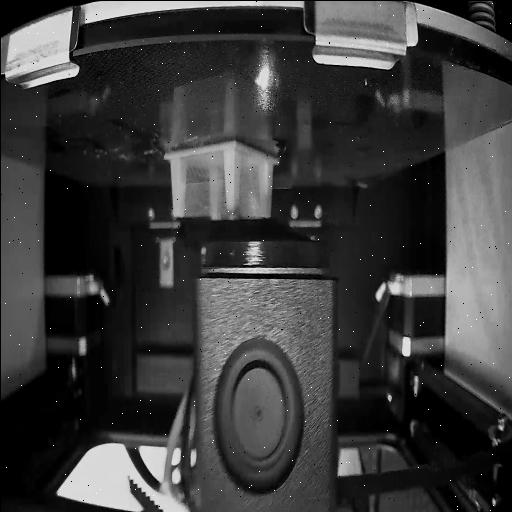stringing: (177, 150, 224, 222), (237, 148, 267, 222)
